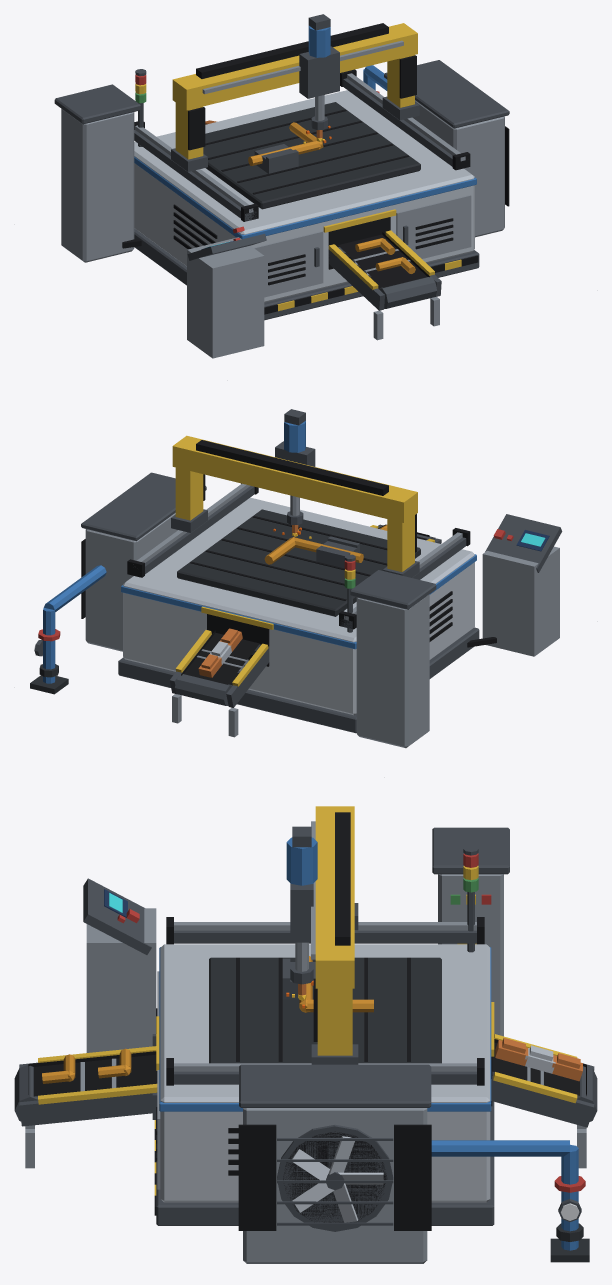
Rendered from constructeur_t2.glb.
3 views of the same model, one above another, from view 1: azimuth 30°, elevation 25°; view 2: azimuth 150°, elevation 25°; view 3: azimuth 270°, elevation 25° (orthographic). The views are drawn at different scales.
Parts seen in each view (by area): view 1: bati.004, pieces_acier.015, table.002, armoire.008, pieces_noir.015, pieces_acier_sombre.015, portique_jaune.002, refroidisseur.002, refroidisseur_toit.002, portique_noir.002, bati_socle.002, bati_bandeau.002 (+8 smaller); view 2: bati.004, table.002, armoire.008, pieces_acier.015, portique_jaune.002, pieces_acier_sombre.015, pieces_noir.015, refroidisseur.002, bati_socle.002, refroidisseur_toit.002, portique_noir.002, armoire_toit.008 (+9 smaller); view 3: bati.004, table.002, pieces_acier_sombre.015, pieces_noir.015, pieces_acier.015, refroidisseur.002, refroidisseur_toit.002, portique_jaune.002, ventilateur_cadre.004, armoire.008, bati_socle.002, pieces_jaune.015 (+14 smaller).
Boxes of the visible parts, <box> form: bati.004: <box>134,90,474,302</box>; pieces_acier.015: <box>135,73,471,358</box>; table.002: <box>203,102,420,209</box>; armoire.008: <box>61,109,134,262</box>; pieces_noir.015: <box>122,69,509,314</box>; pieces_acier_sombre.015: <box>134,69,452,310</box>; portique_jaune.002: <box>172,23,417,159</box>; refroidisseur.002: <box>412,100,504,237</box>; refroidisseur_toit.002: <box>384,60,509,128</box>; portique_noir.002: <box>188,23,416,150</box>; bati_socle.002: <box>134,228,479,320</box>; bati_bandeau.002: <box>134,156,476,239</box>; bati.004: <box>123,497,474,715</box>; table.002: <box>177,509,420,616</box>; armoire.008: <box>356,594,429,748</box>; pieces_acier.015: <box>133,483,559,737</box>; portique_jaune.002: <box>172,435,417,571</box>; pieces_acier_sombre.015: <box>145,486,562,707</box>; pieces_noir.015: <box>81,483,496,685</box>; refroidisseur.002: <box>85,513,177,651</box>; bati_socle.002: <box>118,627,479,733</box>; refroidisseur_toit.002: <box>81,472,206,541</box>; portique_noir.002: <box>196,440,416,552</box>; armoire_toit.008: <box>350,570,436,609</box>; bati.004: <box>160,944,490,1202</box>; table.002: <box>209,957,441,1063</box>; pieces_acier_sombre.015: <box>14,845,597,1225</box>; pieces_noir.015: <box>28,917,586,1230</box>; pieces_acier.015: <box>25,908,586,1189</box>; refroidisseur.002: <box>243,1108,427,1263</box>; refroidisseur_toit.002: <box>239,1064,431,1107</box>; portique_jaune.002: <box>315,806,354,1055</box>; ventilateur_cadre.004: <box>277,1124,393,1231</box>; armoire.008: <box>438,874,503,1036</box>; bati_socle.002: <box>156,1101,494,1225</box>; pieces_jaune.015: <box>38,866,577,1195</box>.
Bounding box in the file's own units: 2 × 1.22 × 2.
